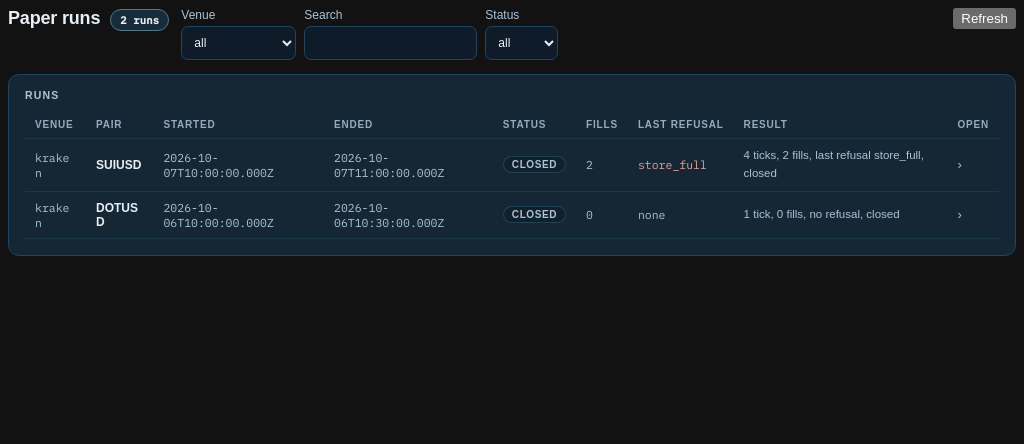
Test: LastRunsPanel — detail fills table › clicking a row whose recent_fills is empty shows the placeholder, not an empty table
Expected: the table with test id "paper-last-runs-table" is shown, top-left (25, 111), bottom-right (999, 239)
Click the row with test id "paper-last-runs-row-kraken-DOTUSD" at (512, 215), box top-left (25, 191), bottom-right (999, 238)
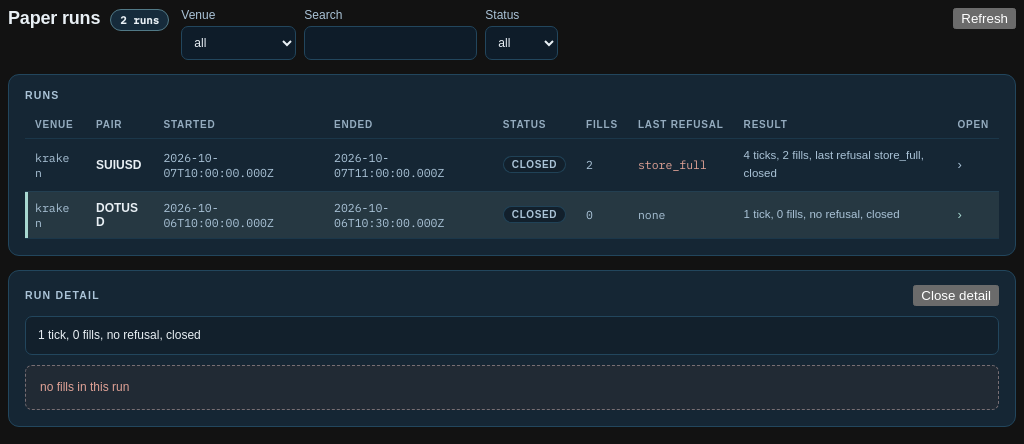
Expected: the text "no fills in this run" is shown, top-left (25, 365), bottom-right (999, 410)
Expected: the text with test id "paper-last-runs-detail-summary" reads "1 tick, 0 fills, no refusal, closed", top-left (38, 328), bottom-right (201, 342)
